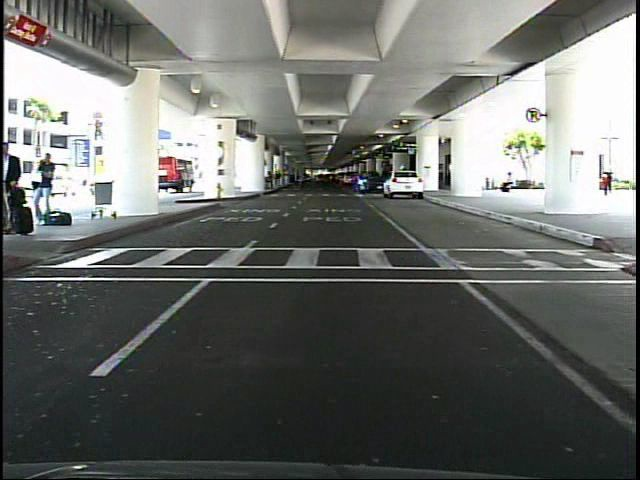person: (34, 147, 59, 228), (596, 163, 619, 203), (497, 166, 518, 197)
